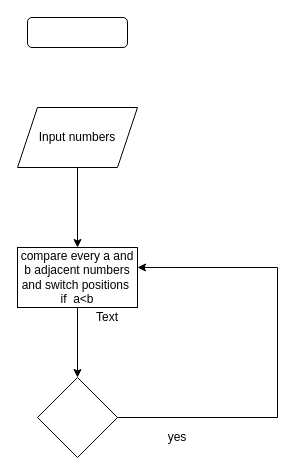
The diagram is 303 pixels wide and 475 high, and some of its shapes have lost their labels. The centre of each missing label's shape, as x and y in pixels:
"is end of list reached ?" belongs at (x=77, y=417).
"Start" belongs at (x=77, y=32).
